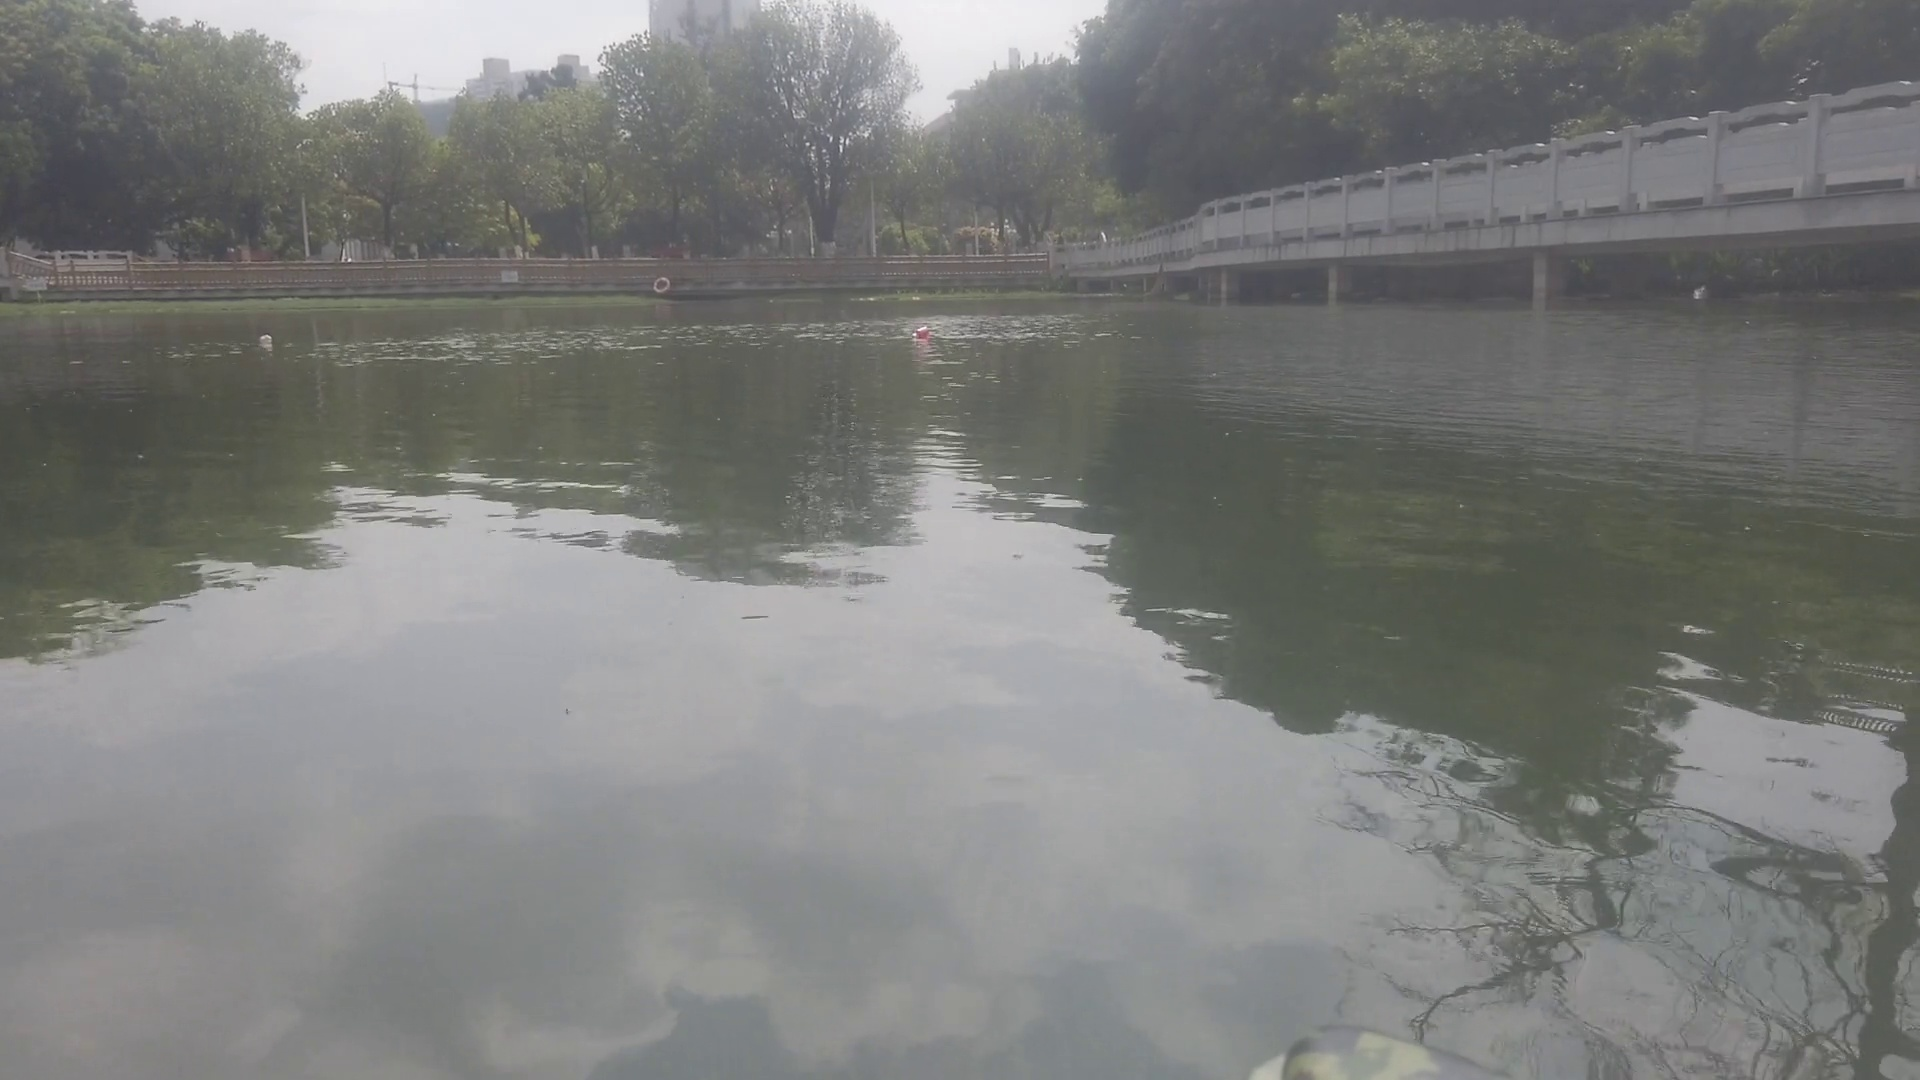bottle: (905, 320, 931, 339), (255, 328, 277, 345)
